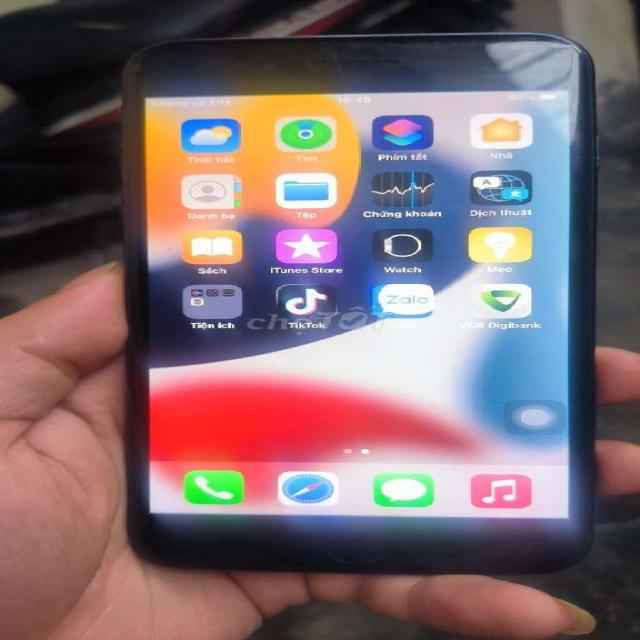gen_7_8: (122, 34, 594, 574)
